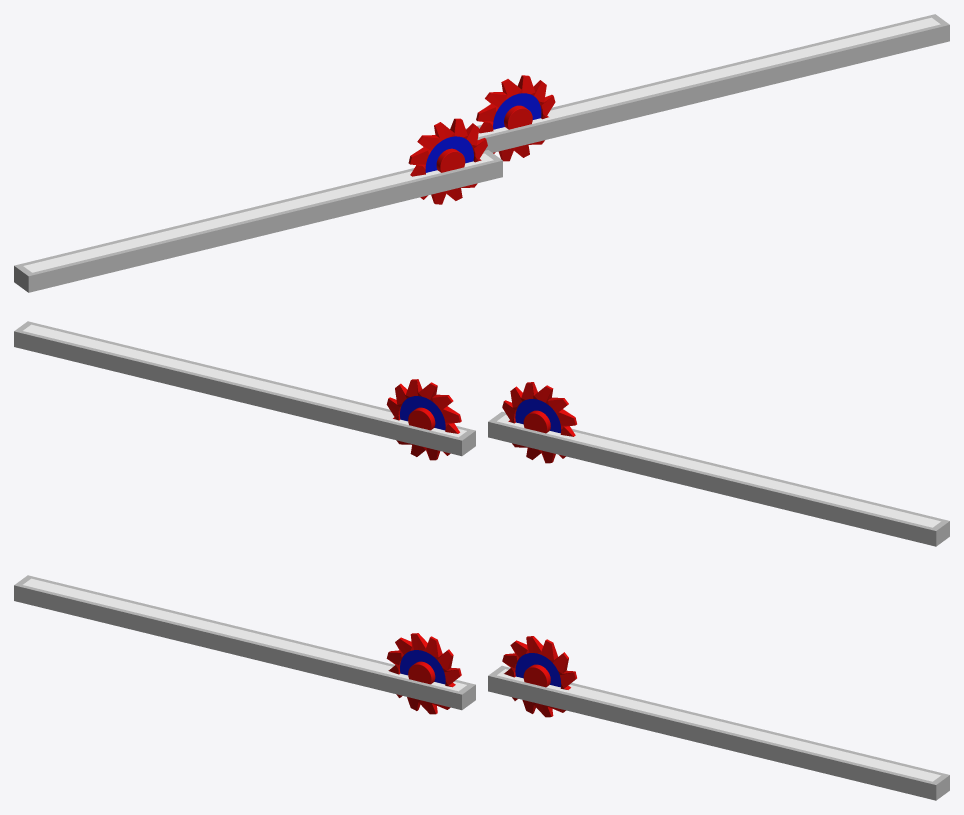
File: 2Saw.fbx
The picture shows the model from 3 angles, top to bottom: view 1: azimuth 30°, elevation 25°; view 2: azimuth 150°, elevation 25°; view 3: azimuth 330°, elevation 25°; orthographic projection. The views are drawn at different scales.
Parts seen in each view (by area): view 1: Cube.006, Cube.005, Cylinder.017, Cylinder.014; view 2: Cube.005, Cube.006, Cylinder.014, Cylinder.017; view 3: Cube.006, Cube.005, Cylinder.017, Cylinder.014.
Part boxes in pixels (<box>): Cube.006: <box>14,150,502,292</box>; Cube.005: <box>466,14,949,152</box>; Cylinder.017: <box>408,118,487,204</box>; Cylinder.014: <box>476,75,555,161</box>; Cube.005: <box>14,321,475,456</box>; Cube.006: <box>488,411,949,546</box>; Cylinder.014: <box>386,379,461,460</box>; Cylinder.017: <box>502,382,576,463</box>; Cube.006: <box>14,575,475,710</box>; Cube.005: <box>488,665,949,800</box>; Cylinder.017: <box>386,633,461,714</box>; Cylinder.014: <box>502,636,576,717</box>.
Size of the model in its own units: 12 by 0.9848 by 0.9202.
